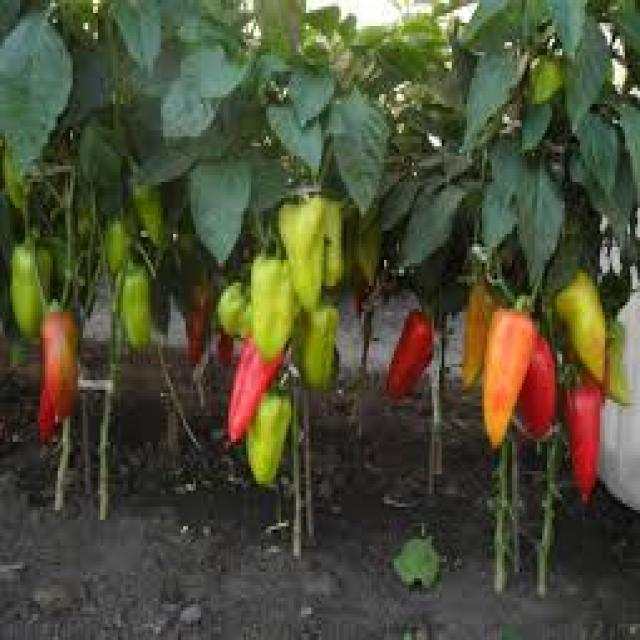Bell pepper: (553, 353, 617, 517), (92, 220, 160, 350), (546, 259, 612, 390), (242, 240, 302, 370), (478, 296, 530, 444), (220, 322, 275, 450), (34, 305, 81, 437), (12, 225, 60, 348), (275, 193, 327, 304), (455, 254, 494, 400), (238, 390, 290, 499), (383, 302, 438, 403), (510, 330, 557, 438), (291, 291, 343, 386), (599, 317, 639, 416), (213, 277, 264, 348), (318, 189, 354, 287)
